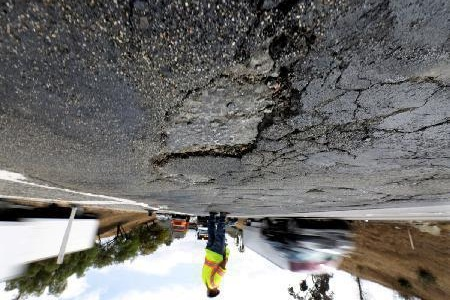pothole: (147, 68, 305, 169), (232, 0, 315, 64), (154, 170, 213, 187)
